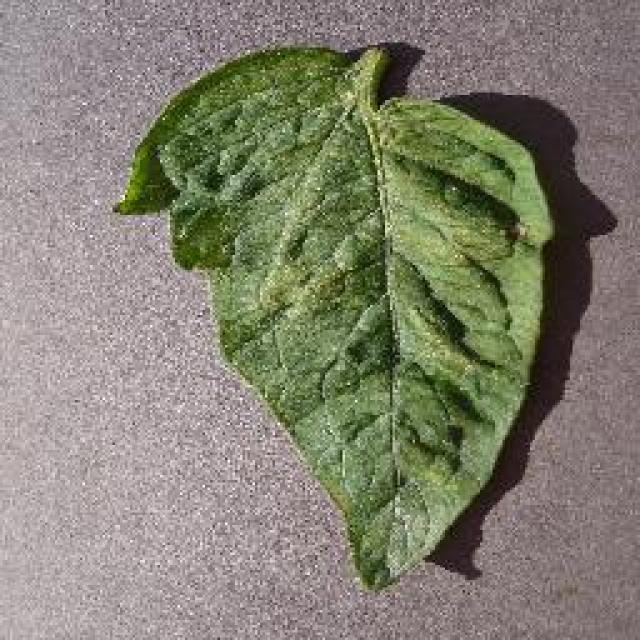Tomato___Spider_mites Two-spotted_spider_mite: (115, 45, 552, 585)
